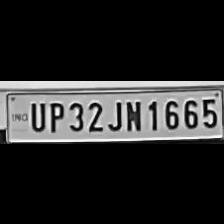1: (144, 97, 160, 130)
2: (84, 97, 104, 131)
3: (66, 97, 84, 130)
5: (200, 94, 218, 128)
6: (160, 95, 178, 129), (180, 96, 198, 128)
J: (106, 96, 122, 132)
N: (122, 97, 142, 131)
P: (46, 98, 64, 132)
U: (27, 98, 46, 132)
